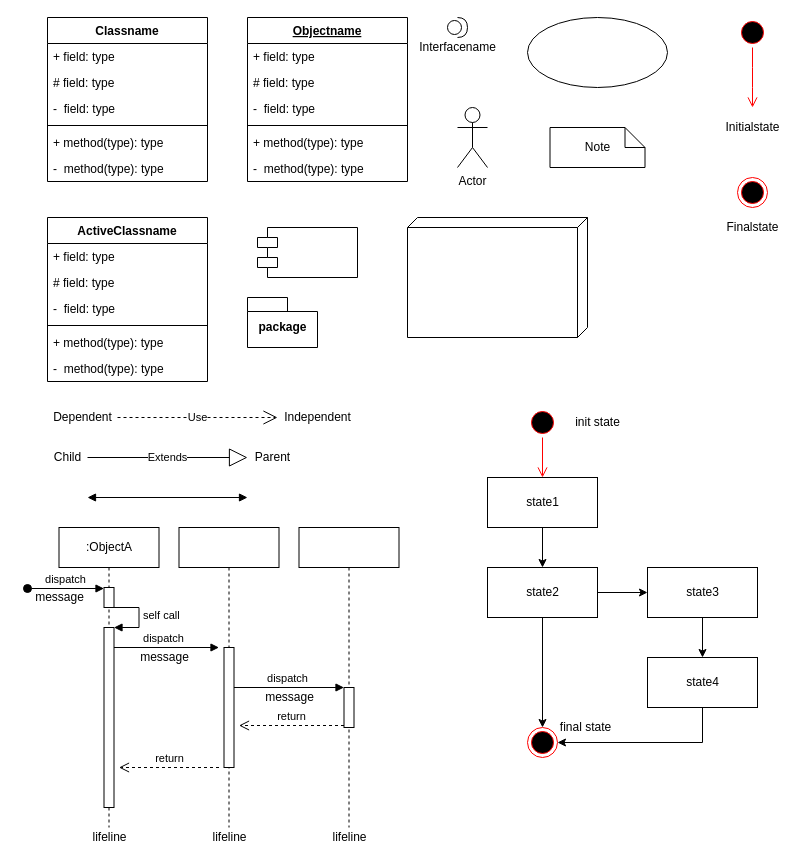
The diagram is 805 pixels wide and 865 high, and some of its shapes have lost their labels. The centre of each missing label's shape, as x and y in pixels:
:ObjectB: the point at 228,677
:ObjectC: the point at 348,677
Block: the point at 497,277
Component: the point at 307,252
Use Case: the point at 597,52
